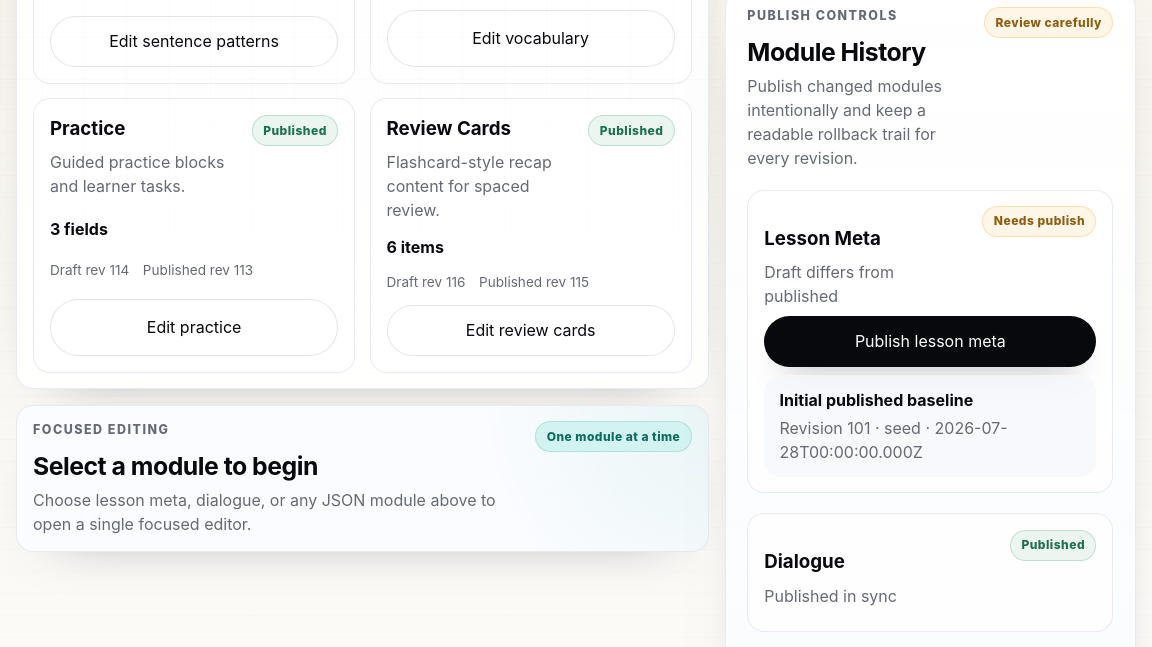
Test: AdminLessonEditorPage › shows an action-specific publish failure message
(page scrolled)
Click the button "Publish lesson meta" at {"x": 930, "y": 341}, box left=764, top=316, right=1096, bottom=367
(page scrolled)
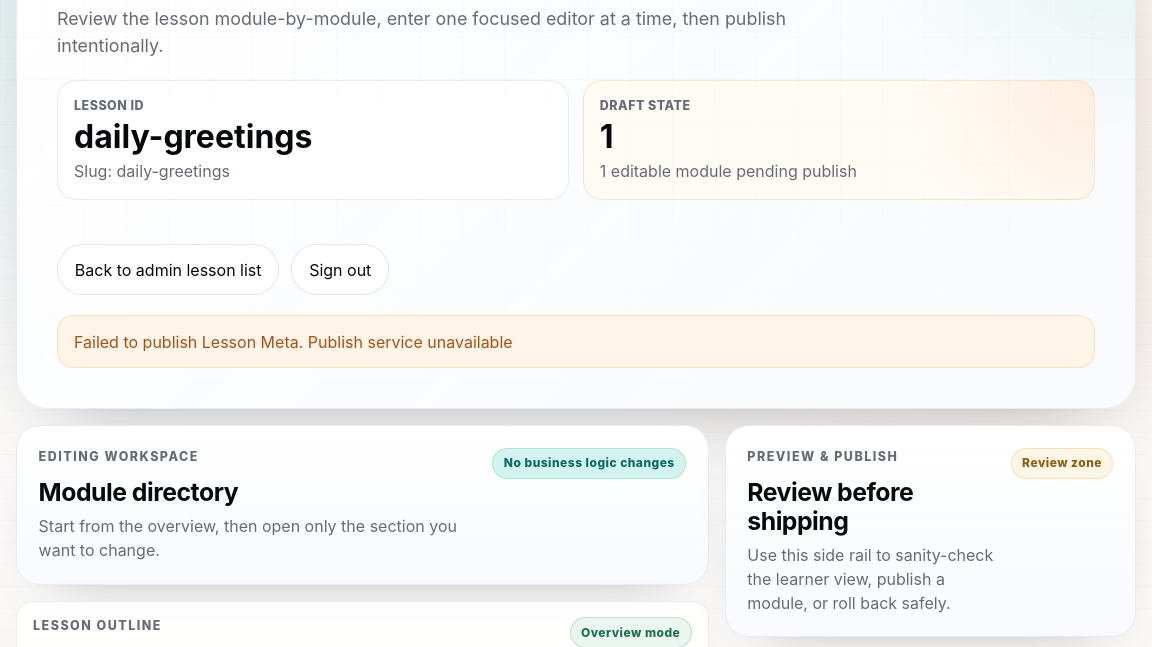
Check: the text "Failed to publish Lesson Meta. Publish service unavailable" is shown, box left=57, top=315, right=1095, bottom=368
